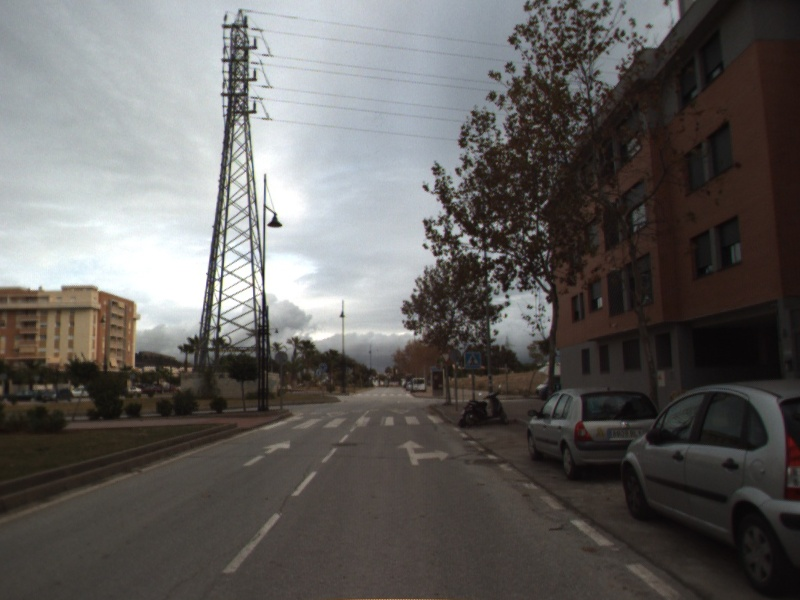STRAIGHT: (241, 438, 292, 468)
STRAIGHT_RIGHT: (395, 438, 451, 467)
